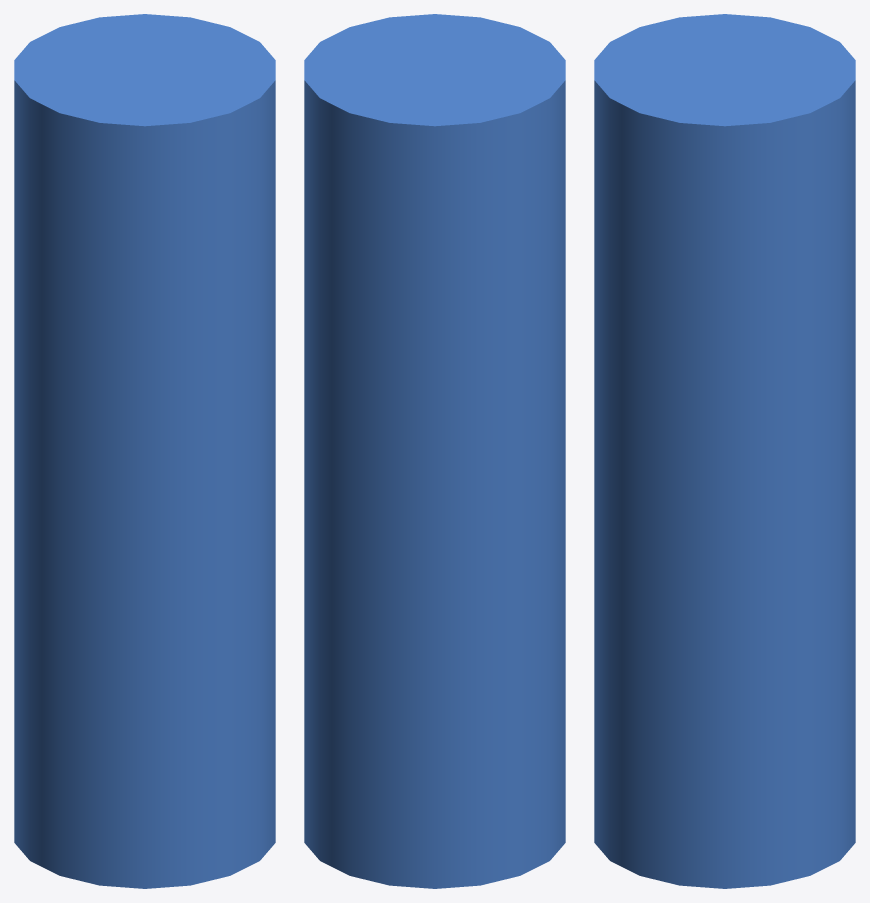
File: pillar.dae
The picture shows the model from 3 angles, left to right: view 1: azimuth 30°, elevation 25°; view 2: azimuth 150°, elevation 25°; view 3: azimuth 270°, elevation 25°; orthographic projection.
Parts seen in each view (by area): view 1: Cylinder001; view 2: Cylinder001; view 3: Cylinder001.
Part boxes in pixels (<box>): Cylinder001: <box>14,14,275,888</box>; Cylinder001: <box>304,14,565,888</box>; Cylinder001: <box>594,14,855,888</box>.
Size of the model in its own units: 11.11 by 10.94 by 35.19.
